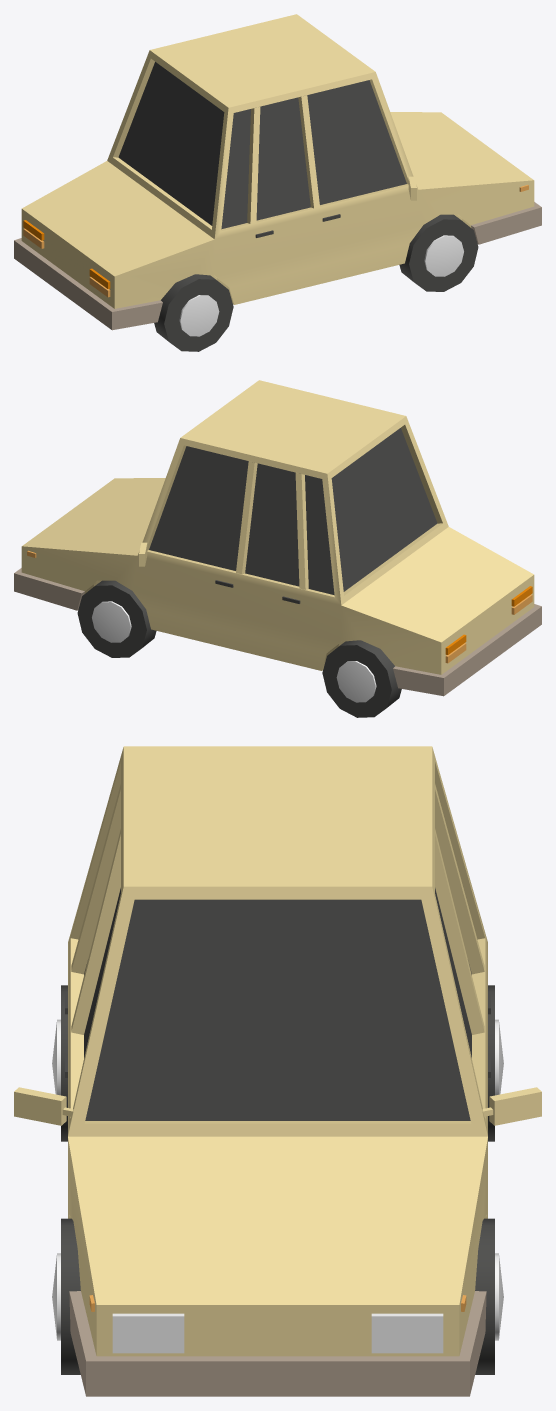
The model's file is car_yellow.fbx.
The picture shows the model from 3 angles, top to bottom: view 1: azimuth 30°, elevation 25°; view 2: azimuth 150°, elevation 25°; view 3: azimuth 270°, elevation 25°; orthographic projection. The views are drawn at different scales.
Visible parts, largest first — view 1: car_yellow; view 2: car_yellow; view 3: car_yellow.
Part boxes in pixels (bbox=[...]): car_yellow: bbox=[14, 14, 541, 351]; car_yellow: bbox=[14, 380, 541, 717]; car_yellow: bbox=[14, 746, 541, 1396].
Bounding box in the file's own units: 290 × 142 × 158.
Materials: 1 (1 with a texture image).
